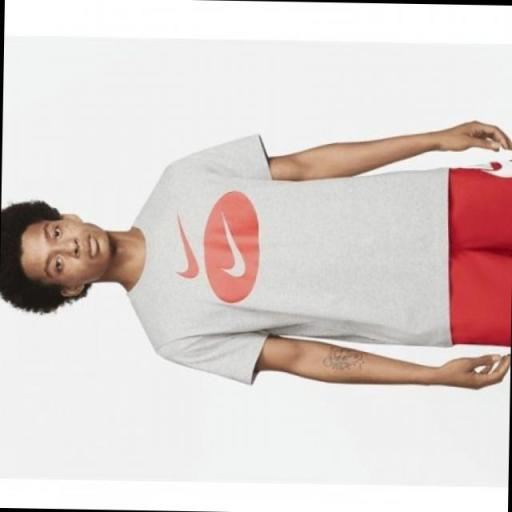Nike: (175, 204, 204, 281)
